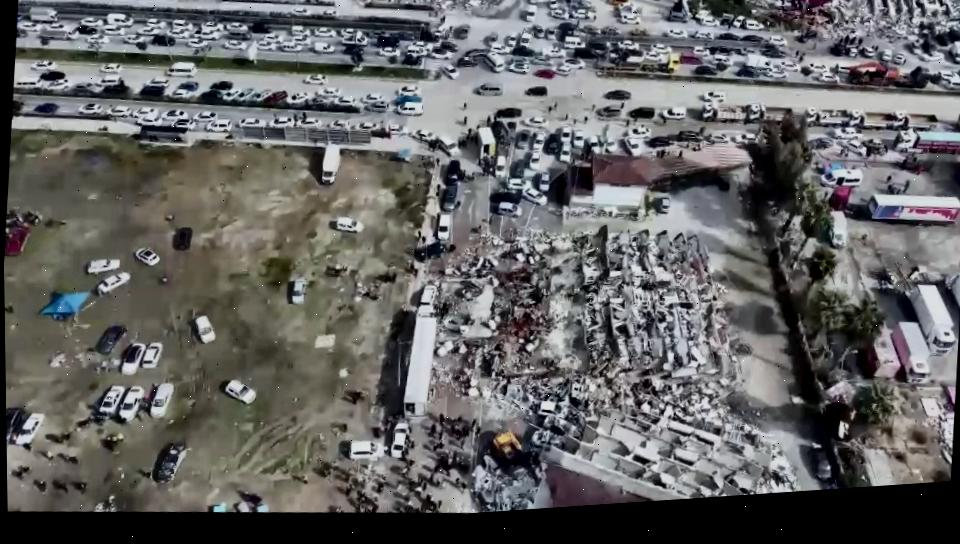kapali: (413, 210, 560, 512)
